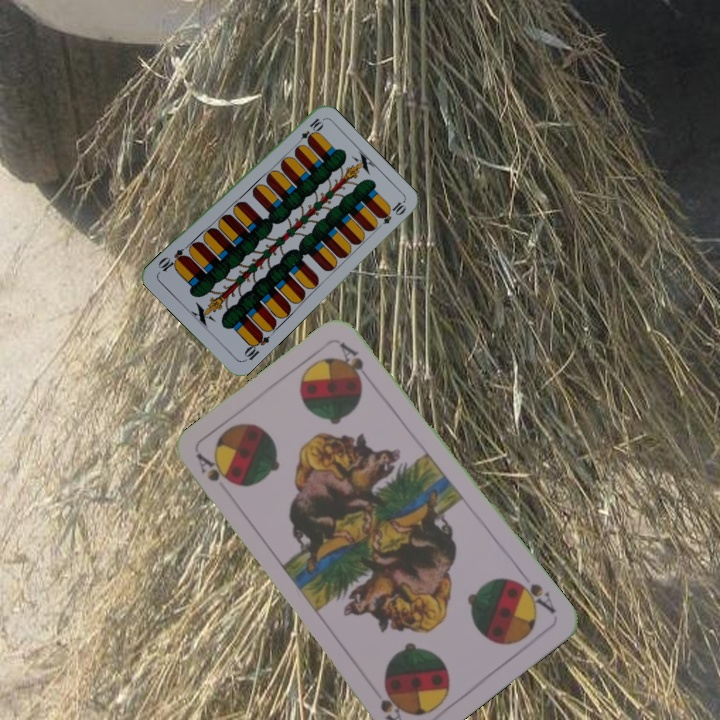E10: (292, 114, 325, 149), (240, 328, 272, 364)
SA: (509, 567, 558, 616), (192, 450, 233, 487)
